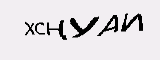А: (99, 12, 123, 39)
И: (120, 10, 146, 34)
С: (34, 18, 46, 35)
У: (68, 15, 98, 41)
Х: (20, 20, 36, 36)
Ң: (45, 16, 68, 41)
